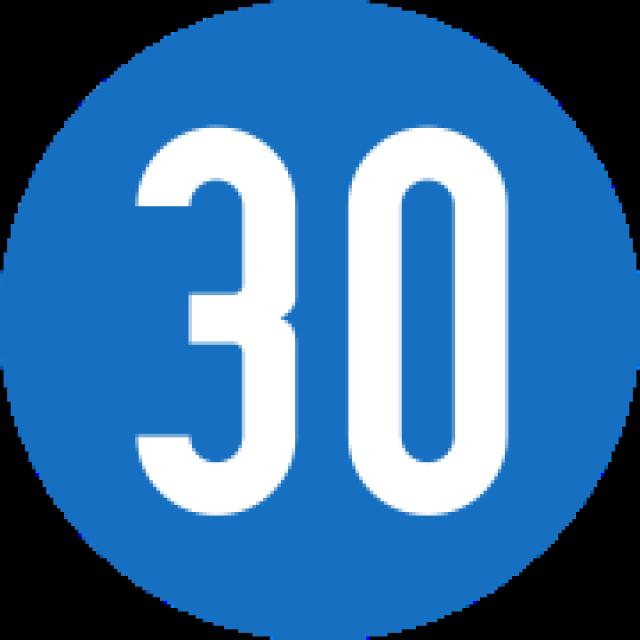Speed Limit -30-: (0, 0, 640, 640), (128, 122, 523, 518)
